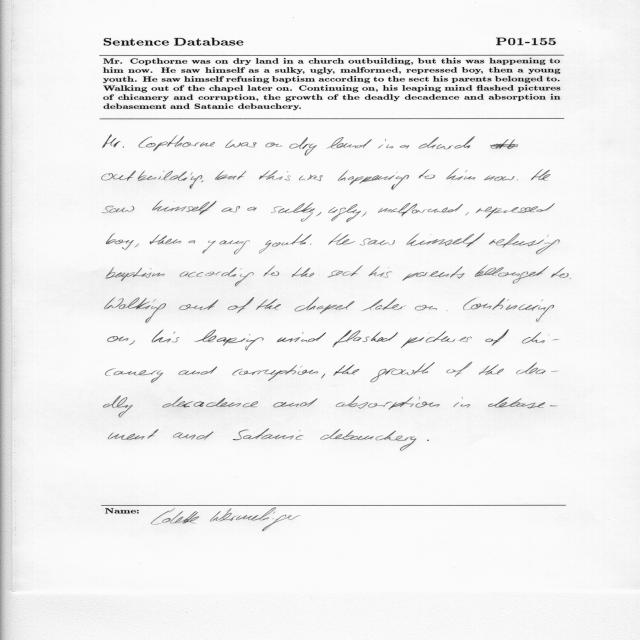word: (320, 429, 417, 451), (466, 298, 554, 322), (102, 170, 203, 189), (105, 297, 166, 323), (489, 233, 560, 254), (336, 396, 440, 410), (195, 330, 264, 351), (338, 170, 409, 190), (180, 268, 254, 287), (475, 265, 549, 284), (233, 365, 319, 381), (370, 362, 435, 383), (419, 136, 518, 149), (138, 135, 215, 151), (401, 331, 472, 348), (476, 204, 555, 219), (406, 233, 485, 247), (378, 203, 463, 216), (333, 330, 398, 347), (163, 397, 259, 408), (295, 297, 355, 314), (259, 234, 312, 253), (152, 200, 217, 215), (402, 266, 465, 281), (105, 368, 163, 383), (271, 203, 315, 222), (489, 397, 558, 409), (106, 267, 165, 281), (233, 429, 303, 440), (203, 240, 250, 254), (103, 396, 133, 417), (329, 204, 362, 222), (363, 298, 407, 311), (108, 429, 159, 440), (289, 137, 317, 156), (326, 137, 372, 148), (277, 332, 326, 342), (106, 233, 134, 250), (516, 363, 559, 374), (180, 299, 219, 310), (328, 266, 363, 278), (228, 297, 254, 313), (485, 329, 509, 346), (522, 332, 559, 343), (274, 399, 318, 408), (447, 362, 473, 377), (152, 330, 180, 343), (173, 432, 213, 441), (259, 170, 291, 181), (179, 366, 217, 375), (328, 233, 355, 245), (150, 234, 182, 244), (447, 169, 476, 180), (103, 134, 124, 148), (369, 266, 393, 278), (334, 365, 360, 376), (215, 171, 246, 180), (256, 299, 281, 310), (479, 364, 504, 375), (226, 140, 257, 148), (360, 239, 395, 246), (531, 169, 550, 181), (103, 206, 135, 213), (292, 268, 314, 277), (551, 267, 569, 278), (453, 397, 470, 408), (484, 175, 514, 181), (463, 297, 476, 310), (264, 266, 279, 277), (419, 169, 435, 179), (299, 175, 323, 181), (379, 139, 394, 148), (108, 336, 129, 342), (415, 305, 437, 310), (222, 206, 240, 212), (266, 143, 283, 148), (247, 207, 257, 211), (400, 145, 409, 149), (129, 340, 135, 345), (362, 212, 367, 217), (189, 240, 195, 244), (316, 212, 321, 216), (134, 244, 139, 248), (321, 374, 325, 379), (465, 212, 469, 216), (201, 181, 204, 183), (427, 440, 429, 441), (310, 244, 311, 245), (570, 278, 571, 279), (517, 180, 518, 180)
